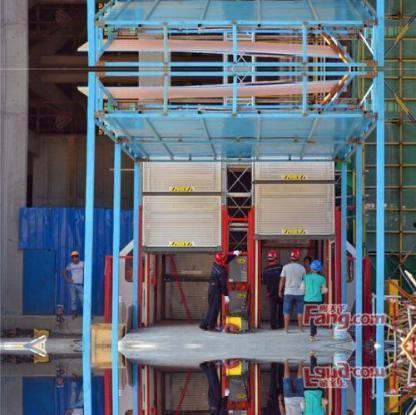helmet: (213, 248, 231, 266), (286, 248, 304, 260), (266, 248, 281, 261), (308, 259, 322, 272), (70, 248, 82, 259)
